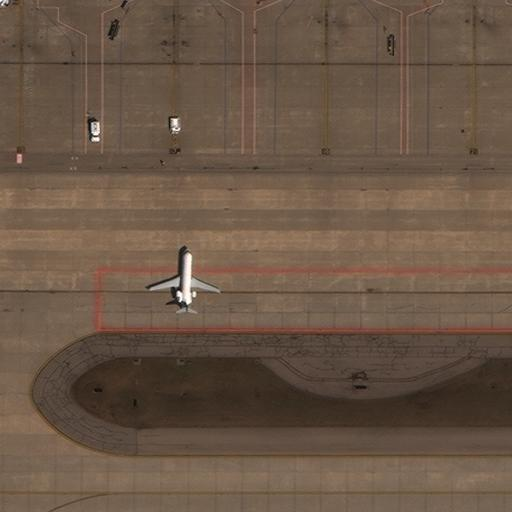Medium Civil Transport: (148, 248, 219, 313)
